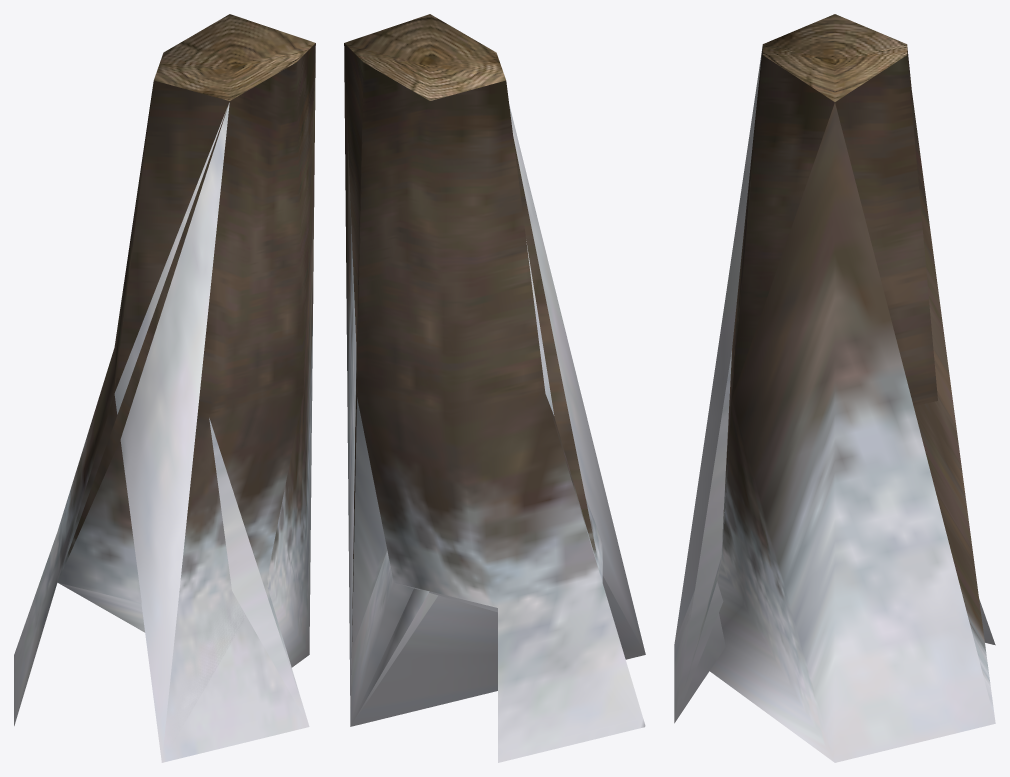
The model's file is stst116.dae.
3 renders of one model, left to right at view 1: azimuth 30°, elevation 25°; view 2: azimuth 150°, elevation 25°; view 3: azimuth 270°, elevation 25°, orthographic. The views are drawn at different scales.
Parts seen in each view (by area): view 1: trap, root4, root1; view 2: trap, root4, root1; view 3: root4, trap.
Part boxes in pixels (x1,y1,x2,y2): trap: (14,14,315,762); root4: (58,44,315,762); root1: (58,105,228,580); trap: (344,14,645,762); root4: (344,44,645,726); root1: (350,137,645,726); root4: (674,46,995,762); trap: (674,14,995,722).
Bounding box in the file's own units: 0.8319 × 0.7054 × 1.65.
1 material, 1 textured.
